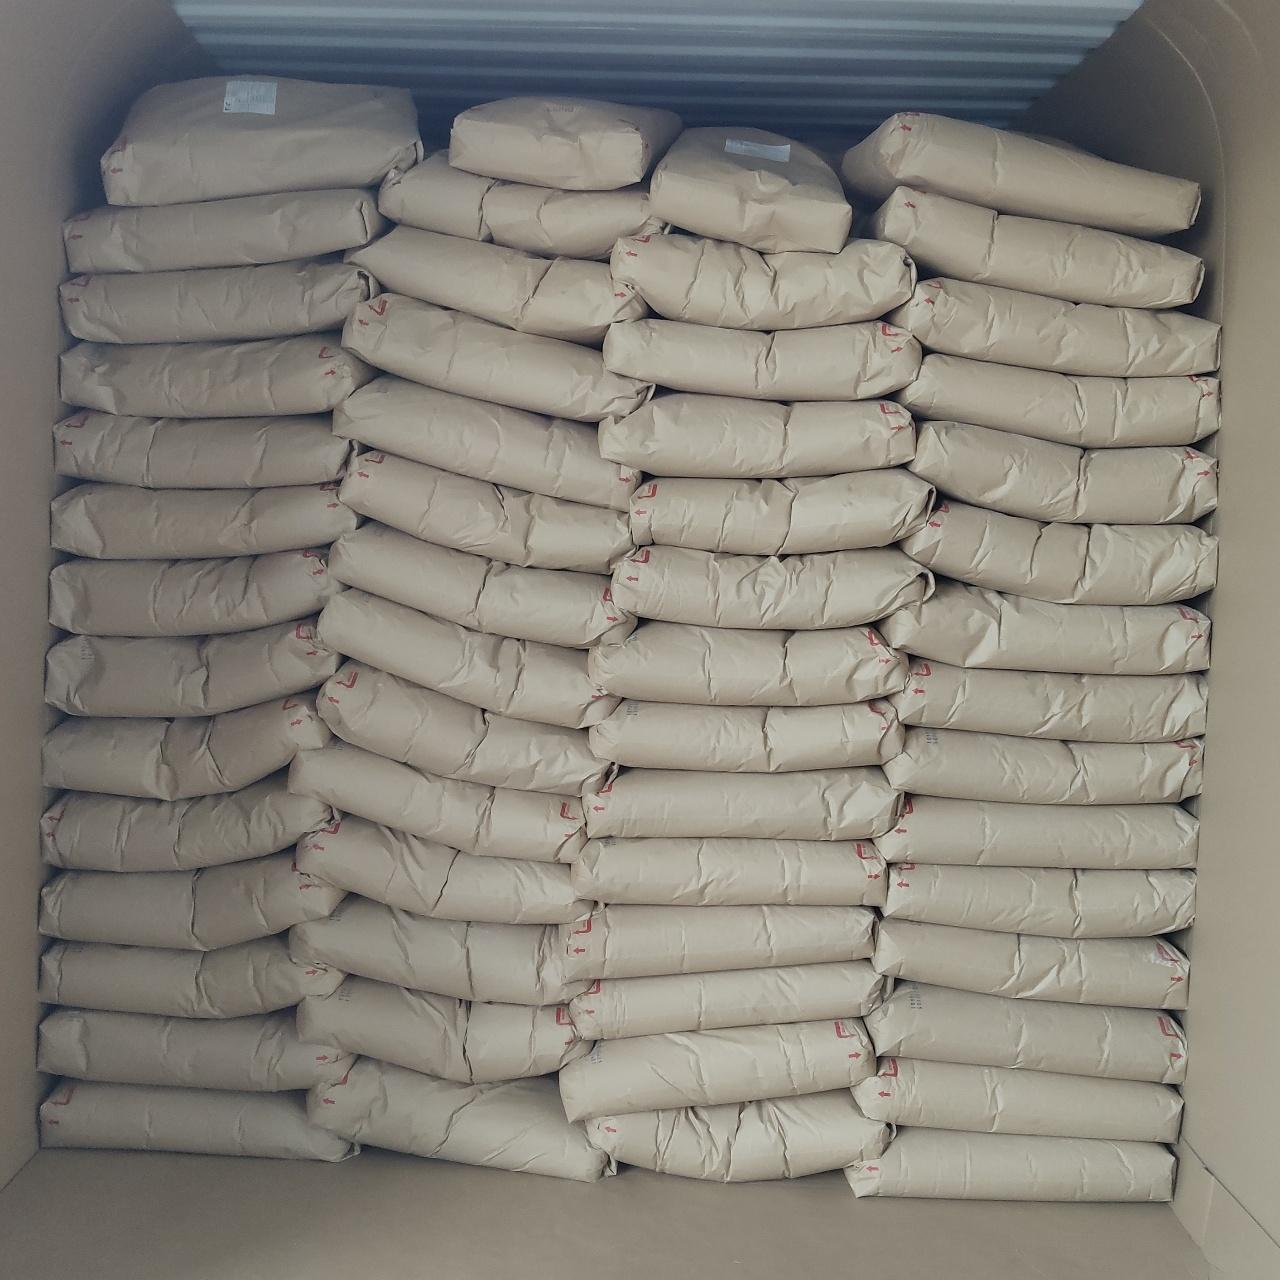sack: (843, 113, 1199, 236), (319, 588, 619, 728), (102, 76, 418, 205), (333, 376, 639, 509), (873, 186, 1200, 307), (343, 294, 652, 421), (329, 522, 636, 648), (316, 659, 601, 794), (308, 1058, 614, 1182), (342, 450, 634, 573), (288, 743, 586, 862), (352, 225, 647, 343), (884, 277, 1218, 376), (900, 499, 1216, 604), (880, 576, 1208, 675), (864, 982, 1186, 1083), (297, 815, 592, 922), (560, 1019, 874, 1119), (43, 690, 331, 799), (377, 151, 667, 259), (41, 847, 347, 949), (908, 422, 1216, 523), (290, 897, 578, 1003), (297, 978, 591, 1082), (46, 615, 340, 717), (900, 353, 1218, 447), (42, 771, 333, 871), (872, 918, 1187, 1009), (610, 234, 913, 329), (60, 254, 379, 343), (588, 1090, 893, 1182), (64, 188, 389, 273), (851, 1057, 1182, 1141), (888, 658, 1207, 743), (61, 332, 377, 417), (601, 393, 915, 478), (590, 622, 907, 706), (629, 468, 934, 554), (39, 932, 343, 1017), (39, 1008, 352, 1091), (604, 319, 921, 400), (52, 547, 343, 635), (40, 1080, 356, 1160), (613, 547, 933, 627), (651, 125, 850, 252), (570, 960, 888, 1039), (846, 1126, 1175, 1201), (884, 727, 1201, 804), (583, 767, 903, 840), (878, 795, 1198, 869), (52, 483, 360, 559), (883, 863, 1196, 938), (54, 410, 352, 488), (558, 905, 874, 978), (592, 699, 903, 772), (449, 96, 682, 190), (571, 838, 887, 906)
